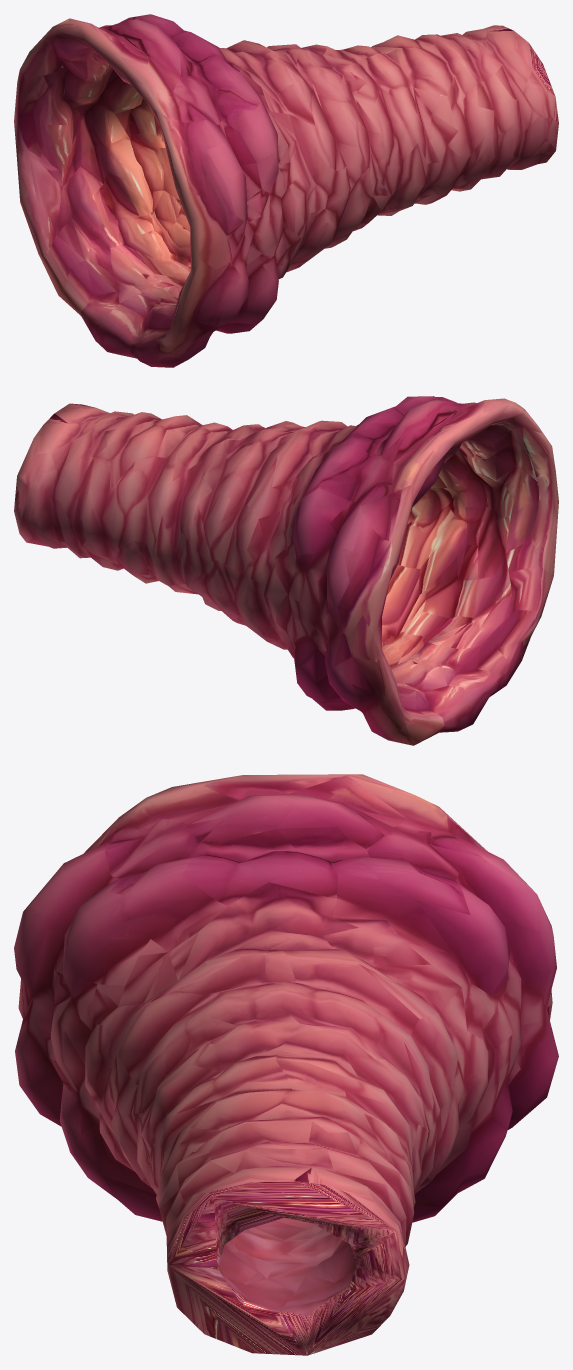
The model's file is Throat3.1.fbx.
The picture shows the model from 3 angles, top to bottom: view 1: azimuth 30°, elevation 25°; view 2: azimuth 150°, elevation 25°; view 3: azimuth 270°, elevation 25°; orthographic projection. The views are drawn at different scales.
Parts seen in each view (by area): view 1: Mesh_0; view 2: Mesh_0; view 3: Mesh_0.
Part boxes in pixels (x1,y1,x2,y2): Mesh_0: (14,14,558,367); Mesh_0: (14,396,558,745); Mesh_0: (14,774,558,1355).
Size of the model in its own units: 1.72 by 1.23 by 1.38.
1 material, 1 textured.
